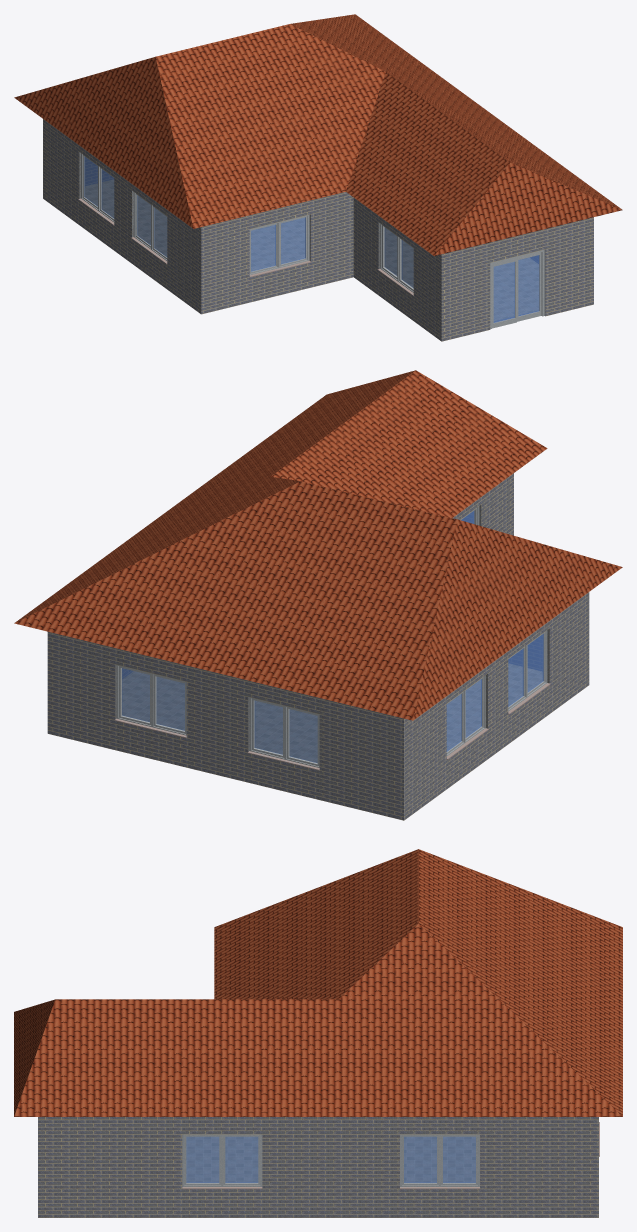
Rendered from telhado44.dae.
3 renders of one model, top to bottom at view 1: azimuth 30°, elevation 25°; view 2: azimuth 150°, elevation 25°; view 3: azimuth 270°, elevation 25°, orthographic. The views are drawn at different scales.
Parts seen in each view (by area): view 1: SketchUp (×15); view 2: SketchUp (×14); view 3: SketchUp (×10).
Part boxes in pixels (x1=…): SketchUp (×15): x1=14, y1=14, x2=622, y2=341; SketchUp (×14): x1=14, y1=370, x2=622, y2=820; SketchUp (×10): x1=14, y1=849, x2=622, y2=1217.
Size of the model in its own units: 441 by 598 by 236.
Materials: 11 (5 with a texture image).
